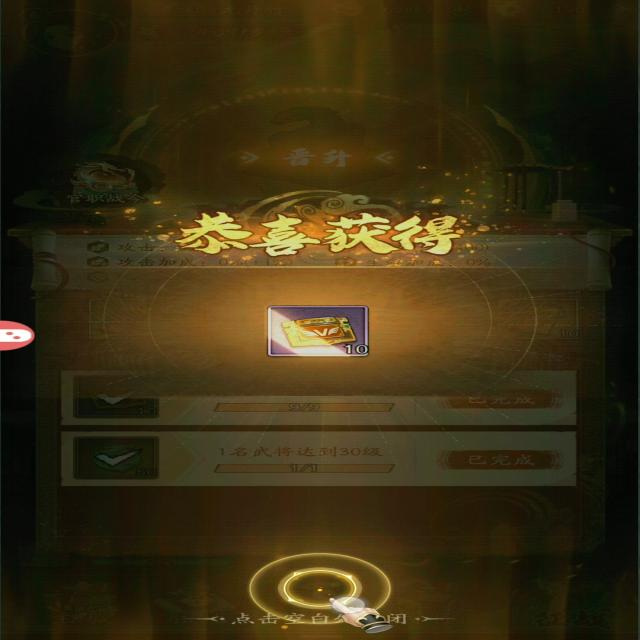hint-guide: (229, 550, 407, 628)
